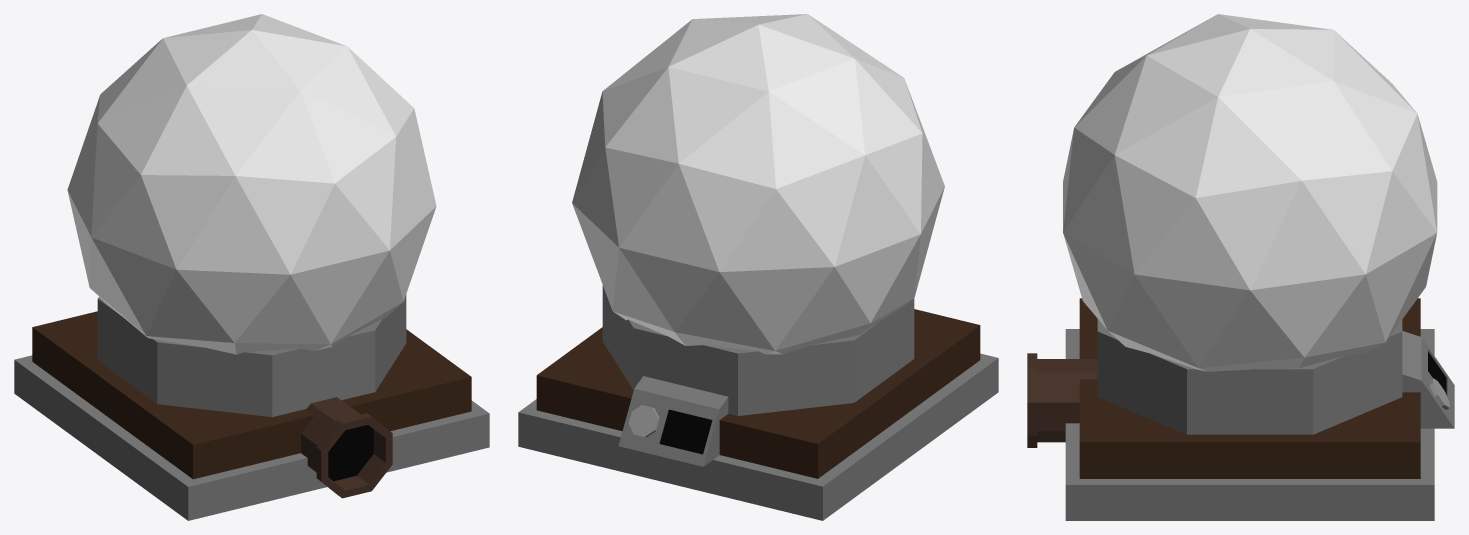
File: GravitationalStabilizer.fbx
3 views of the same model, side by side, from view 1: azimuth 30°, elevation 25°; view 2: azimuth 150°, elevation 25°; view 3: azimuth 270°, elevation 25° (orthographic). The views are drawn at different scales.
Visible parts, largest first — view 1: Icosphere.009, Cube.028, Cylinder.071; view 2: Icosphere.009, Cube.028, Cylinder.073; view 3: Icosphere.009, Cube.028, Cylinder.071.
Boxes of the visible parts, bbox=[...] form: Icosphere.009: bbox=[67, 14, 436, 354]; Cube.028: bbox=[14, 294, 489, 520]; Cylinder.071: bbox=[301, 397, 392, 498]; Icosphere.009: bbox=[572, 14, 944, 354]; Cube.028: bbox=[518, 285, 998, 520]; Cylinder.073: bbox=[628, 405, 659, 437]; Icosphere.009: bbox=[1063, 14, 1437, 371]; Cube.028: bbox=[1065, 298, 1454, 520]; Cylinder.071: bbox=[1027, 353, 1097, 447].
Bounding box in the file's own units: 165 × 192 × 180.
